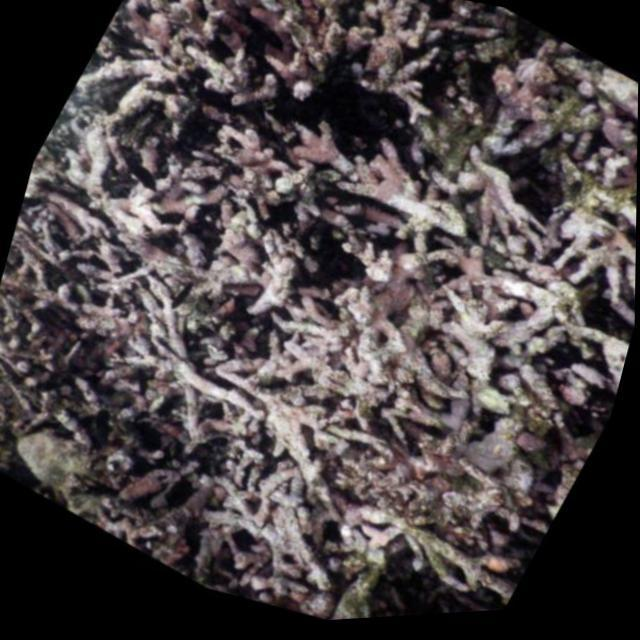Dead Coral: (13, 0, 568, 619)
